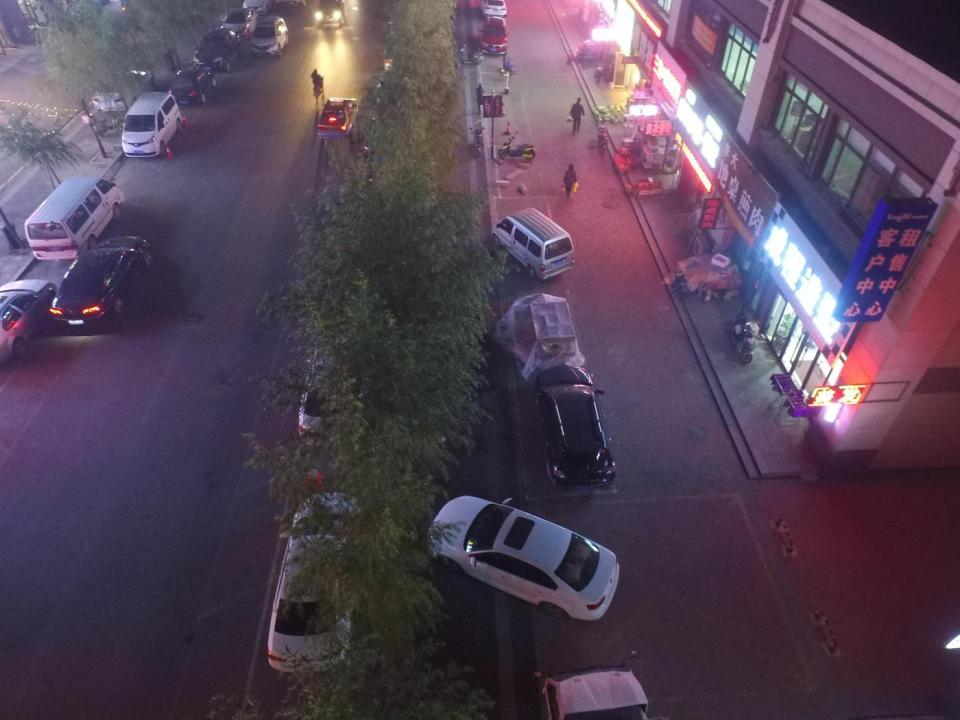car: (427, 495, 618, 620), (266, 493, 368, 669), (50, 235, 152, 326), (299, 320, 370, 444), (0, 279, 56, 364), (91, 70, 155, 112), (168, 69, 217, 105), (317, 98, 358, 140), (364, 116, 404, 158), (376, 68, 419, 104), (384, 35, 422, 72), (220, 7, 259, 38), (480, 16, 509, 55), (481, 0, 506, 20)
van: (534, 365, 615, 491), (24, 178, 125, 258), (490, 209, 574, 278), (121, 91, 182, 157), (193, 28, 243, 71), (250, 16, 288, 58), (316, 0, 344, 25)
